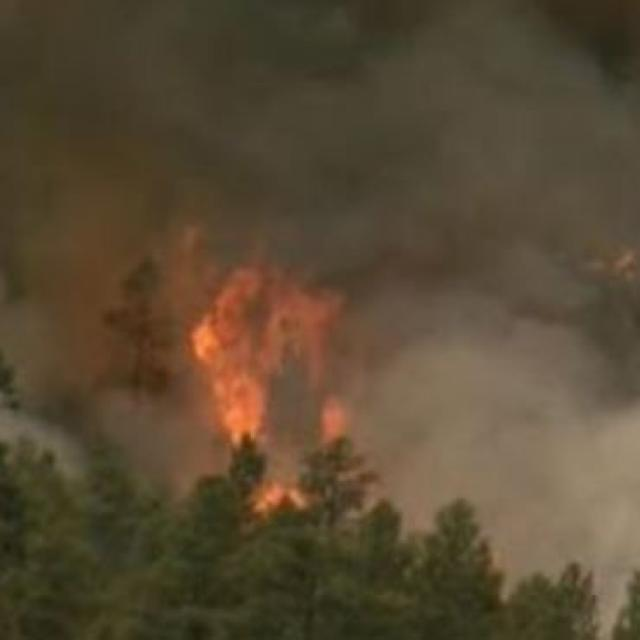Fire: (196, 262, 349, 510)
Smoke: (5, 5, 640, 533)
